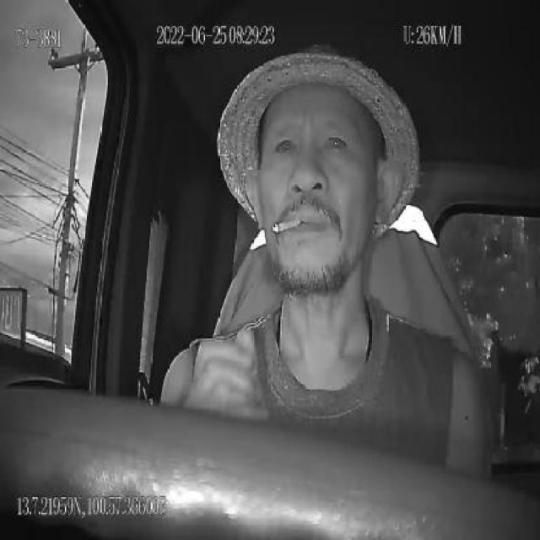smoking: (272, 216, 302, 235)
